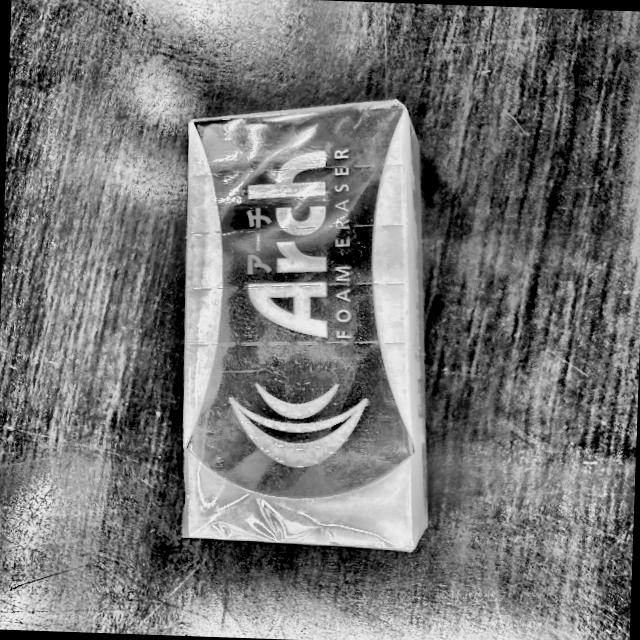eraser: (170, 89, 442, 556)
